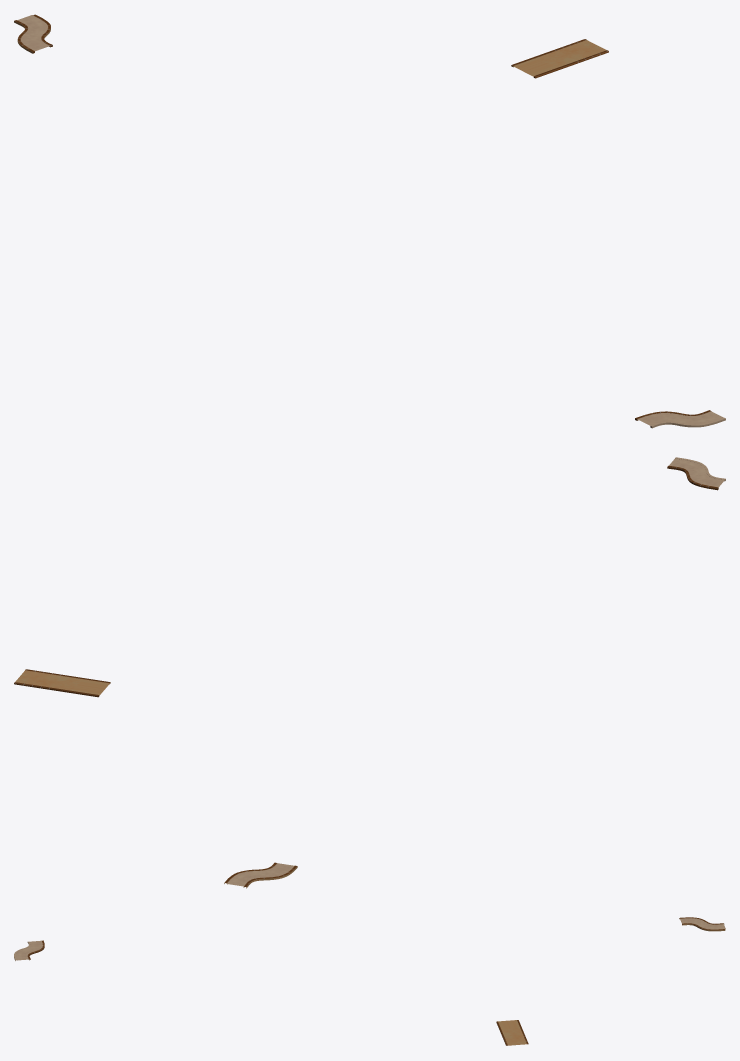
Rendered from objects_un_t05tile04.gltf.
3 views of the same model, one above another, from view 1: azimuth 30°, elevation 25°; view 2: azimuth 150°, elevation 25°; view 3: azimuth 270°, elevation 25° (orthographic). The views are drawn at different scales.
Visible parts, largest first — view 1: objects_un_t05tile04; view 2: objects_un_t05tile04; view 3: objects_un_t05tile04.
Part boxes in pixels (box(x1,y1,x2,y2)): objects_un_t05tile04: box(14, 14, 725, 428); objects_un_t05tile04: box(14, 457, 725, 888); objects_un_t05tile04: box(14, 917, 725, 1045).
Size of what is drawn, in the model's own units: 45.22 by 0.187 by 106.
Materials: 1 (1 with a texture image).
